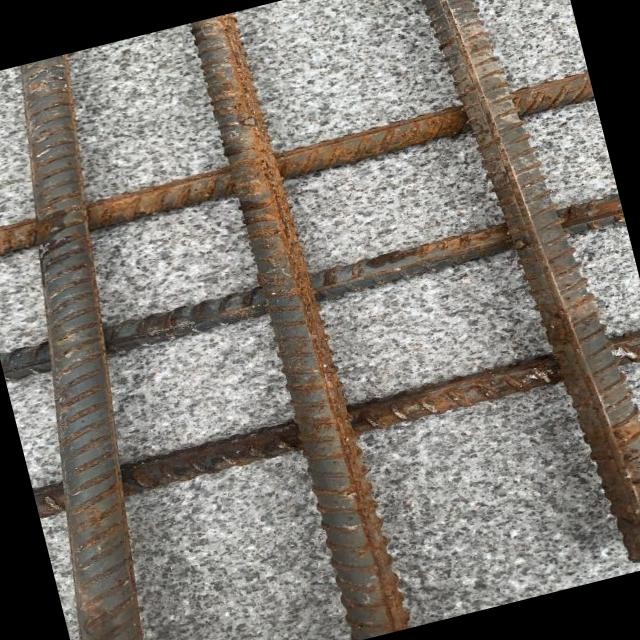ribbed bar: (186, 5, 414, 640), (405, 0, 640, 586), (0, 52, 223, 640), (0, 192, 627, 383), (31, 325, 640, 518), (0, 70, 596, 261)
